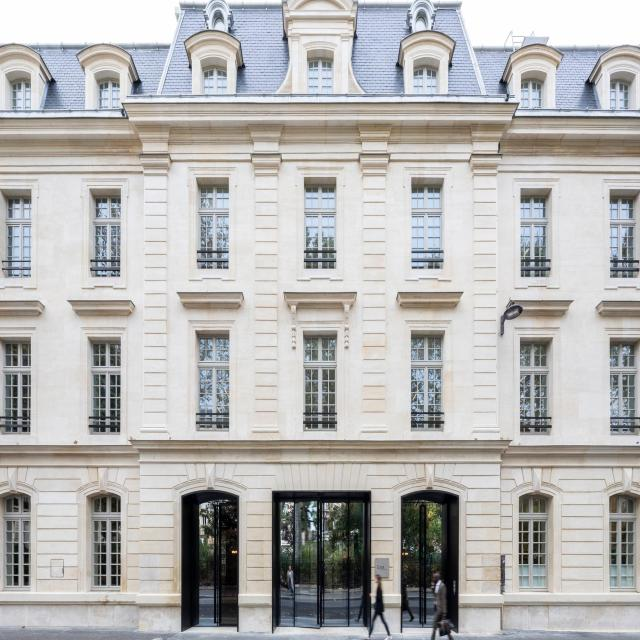door: (278, 500, 366, 629), (191, 500, 238, 628), (402, 501, 443, 630)
window: (412, 336, 442, 432), (197, 336, 228, 427), (306, 337, 335, 431), (93, 496, 121, 590), (519, 345, 549, 432), (608, 500, 636, 592), (92, 342, 120, 433), (517, 499, 546, 586), (306, 187, 335, 270), (412, 187, 441, 269), (199, 185, 228, 266), (611, 198, 640, 279), (4, 494, 28, 590), (5, 193, 33, 275), (520, 197, 548, 278), (94, 195, 122, 276), (5, 342, 30, 431), (611, 347, 636, 433), (309, 62, 335, 96), (203, 62, 229, 96), (97, 79, 121, 112), (13, 79, 36, 112), (610, 80, 633, 112), (521, 78, 543, 111), (415, 66, 437, 94)
